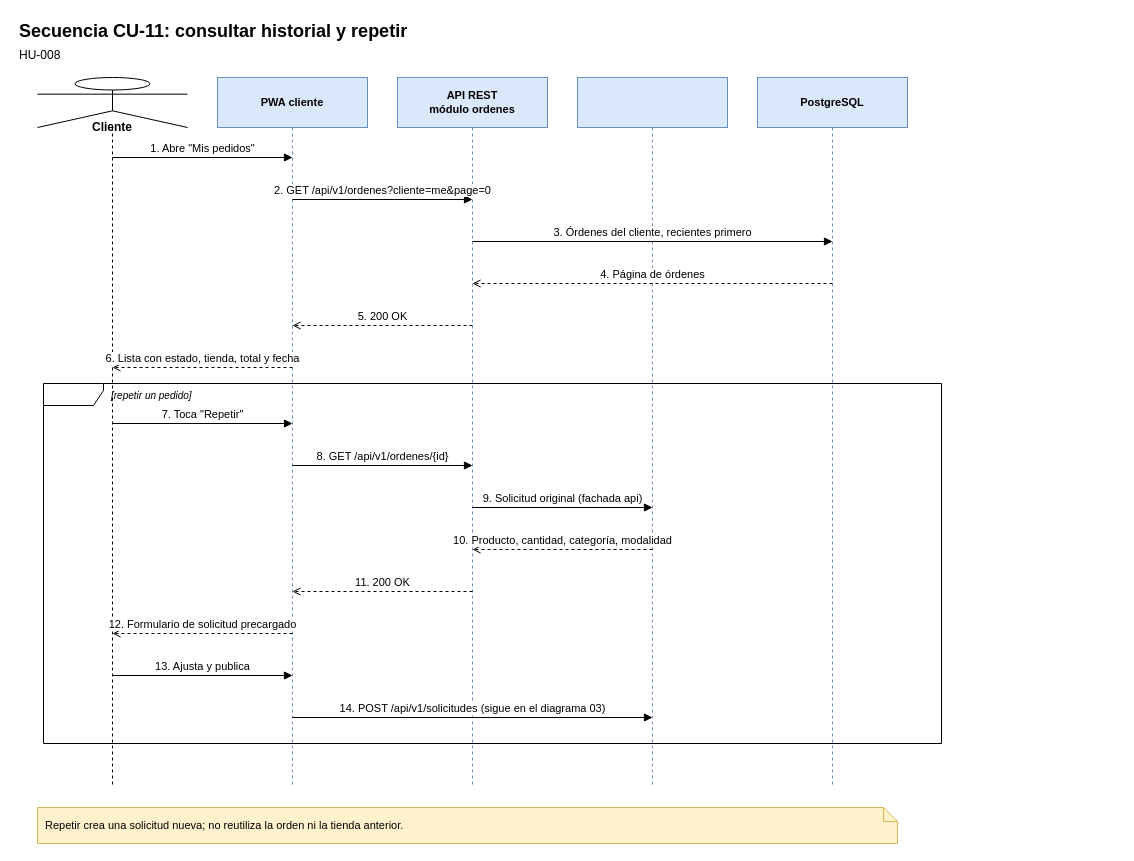
This 1134x861 diagram has some shape labels left out. Each missing label, with the box of its shape:
API REST módulo solicitudes: (576, 76, 728, 788)
opt: (42, 382, 942, 744)
